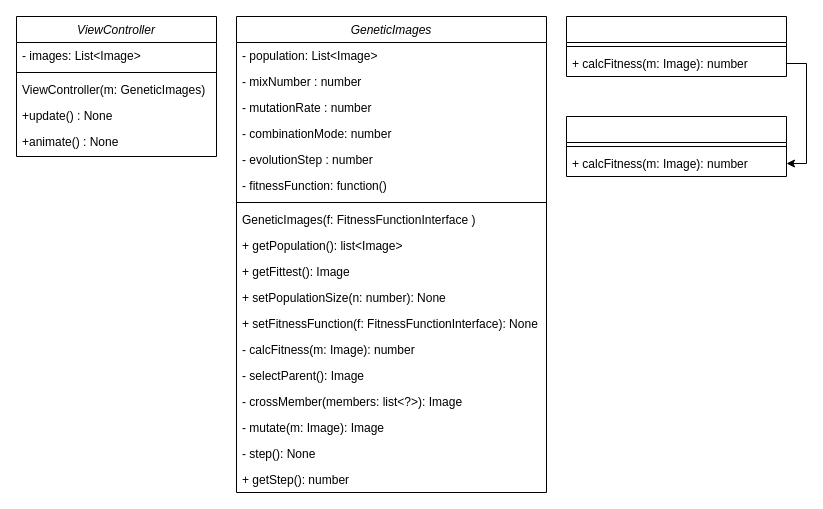
This 823x509 diagram has some shape labels left out. Each missing label, with the box of its shape:
CircleFitnessFunction: (566, 116, 786, 176)
FitnessFunctionInterface: (566, 16, 786, 76)
